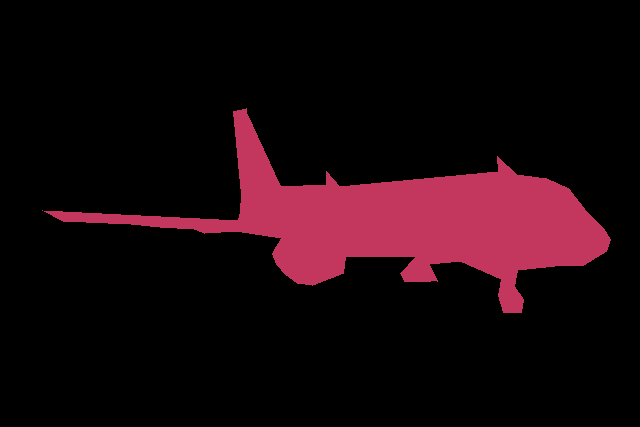Airplane: (42, 108, 611, 313)
